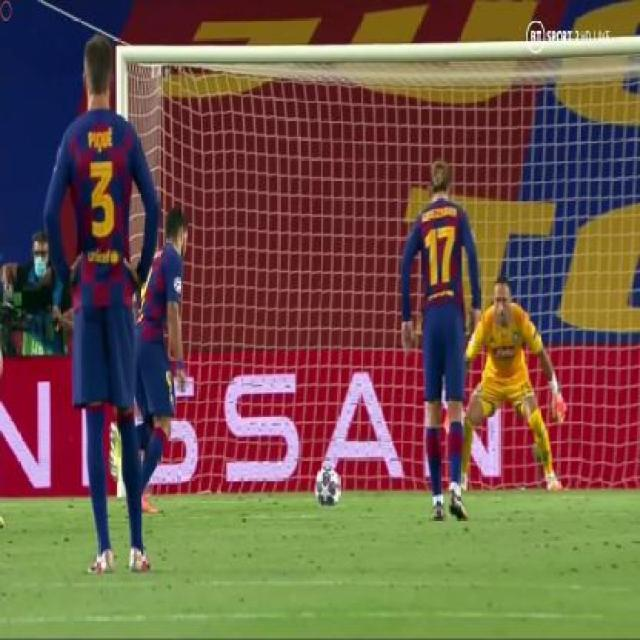ball: (314, 457, 347, 511)
player: (35, 13, 171, 572), (397, 138, 488, 511), (448, 258, 571, 495), (122, 191, 204, 534)
